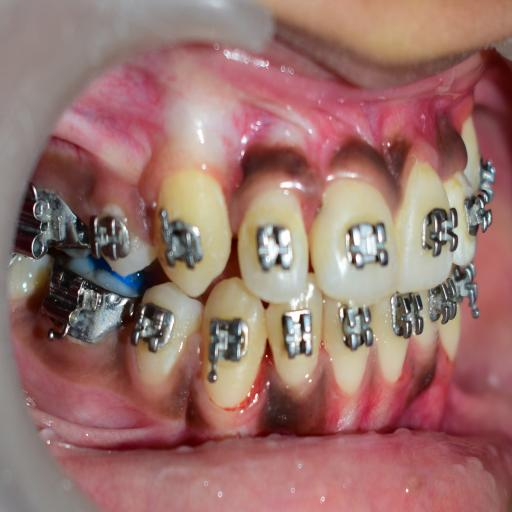correct_brace: (195, 275, 272, 427), (150, 160, 234, 298), (203, 313, 256, 385), (337, 215, 397, 272), (251, 218, 299, 278)
incorrect_brace: (312, 159, 399, 313), (154, 203, 206, 274)
